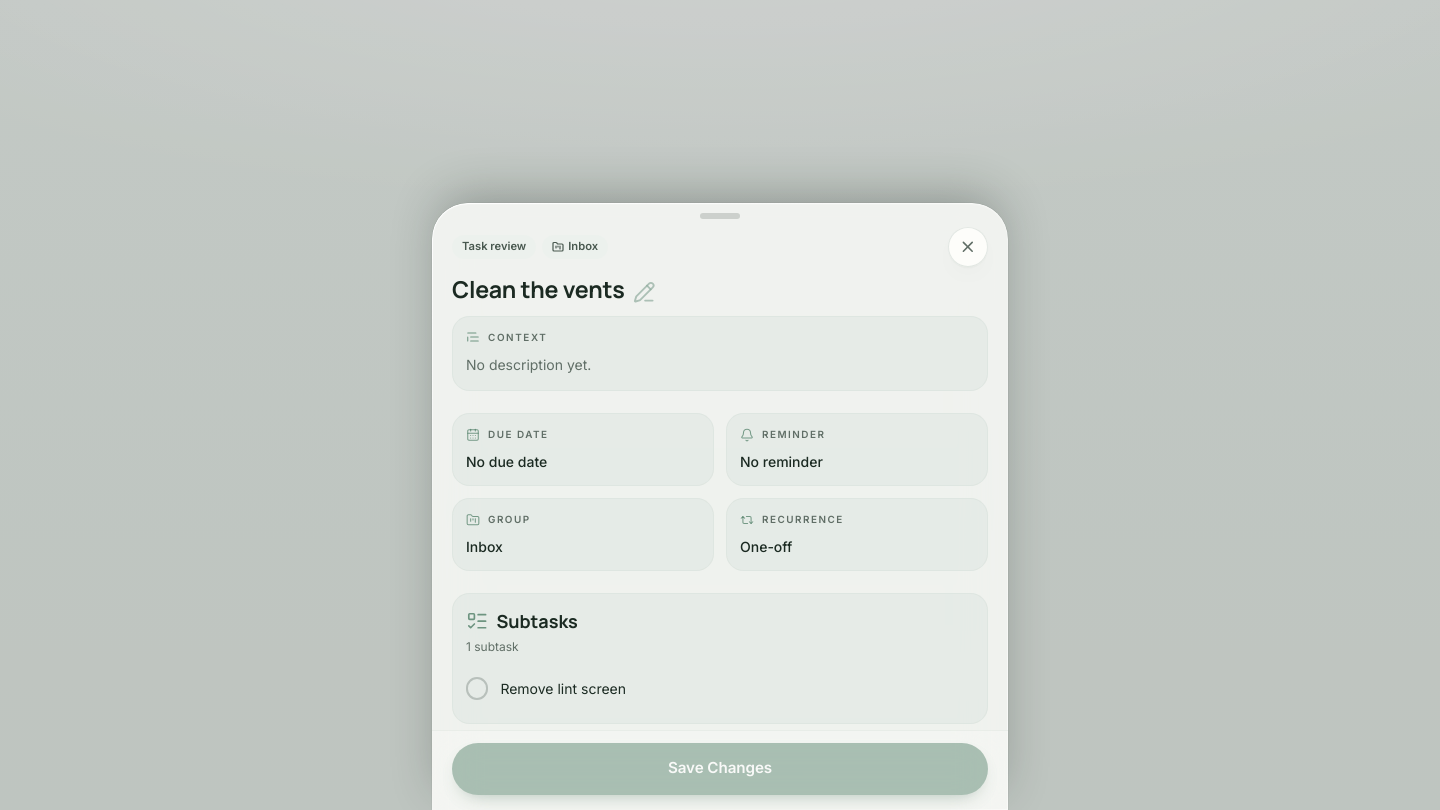
Test: EditExtractedTaskModal › edits only the title when its read-only heading is double-clicked
Double-click the button "Clean the vents" at (538, 288), box [452,274,988,304]
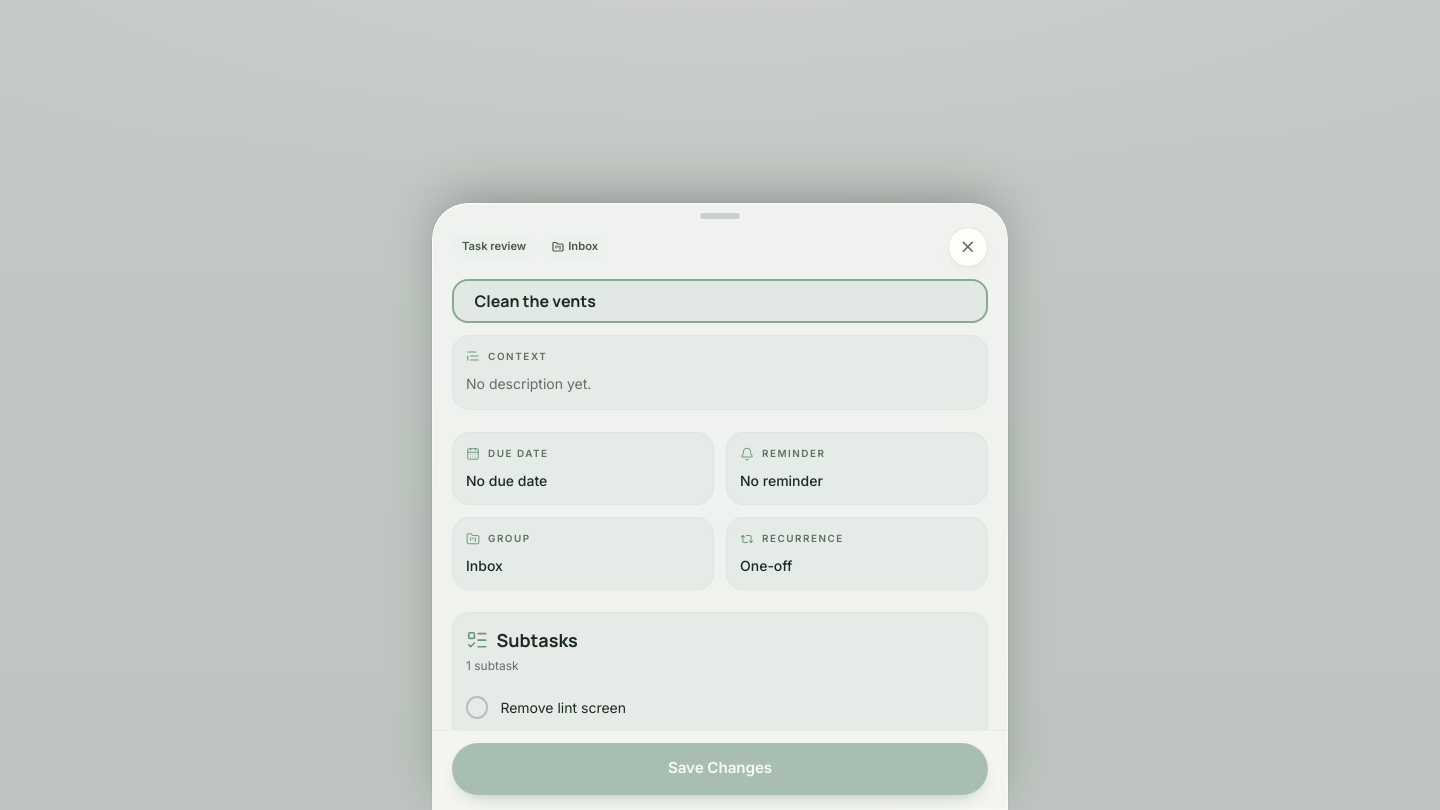
Expected: the field named "Task title" is shown, [452,278,988,322]
